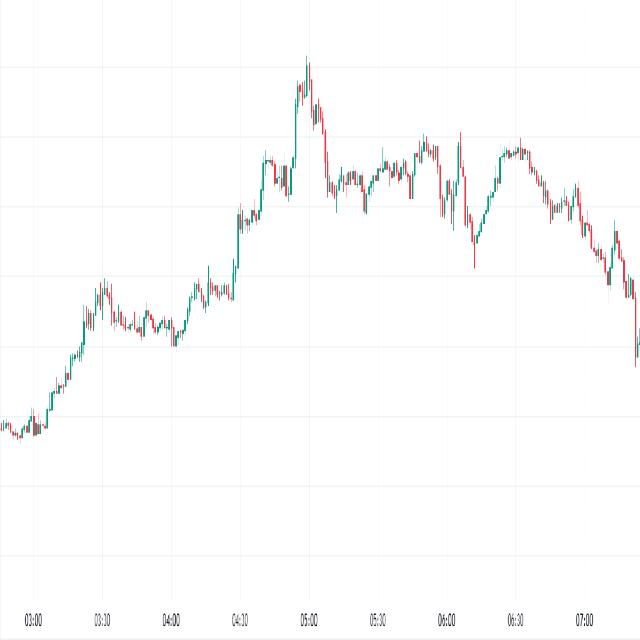Head-Shoulders: (253, 38, 367, 238)
